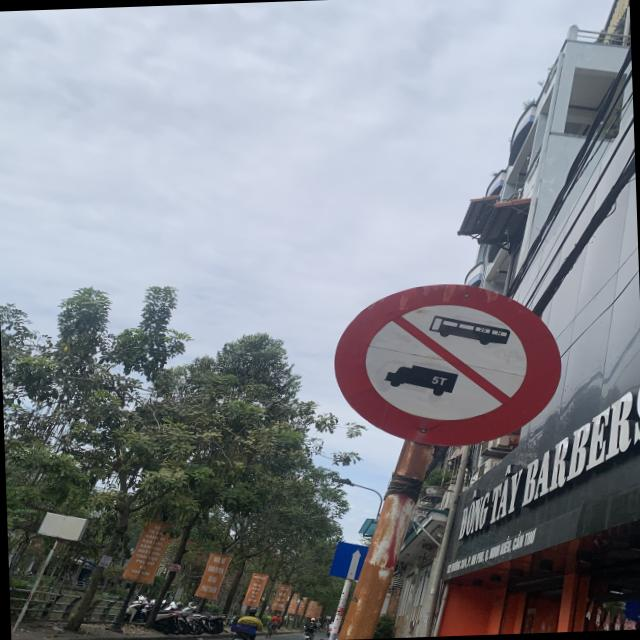Cam_XeTai_XeKhach: (330, 278, 564, 452)
